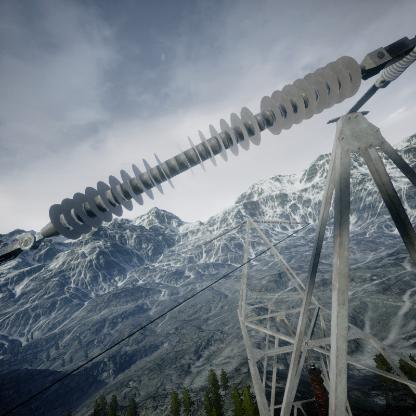insulator: (40, 49, 364, 247)
